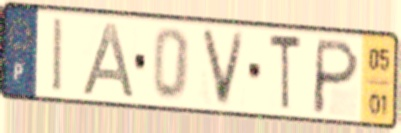0: (150, 24, 191, 105)
A: (79, 19, 139, 102)
I: (51, 14, 66, 96)
P: (308, 36, 363, 118)
T: (267, 30, 305, 115)
V: (198, 25, 249, 110)
